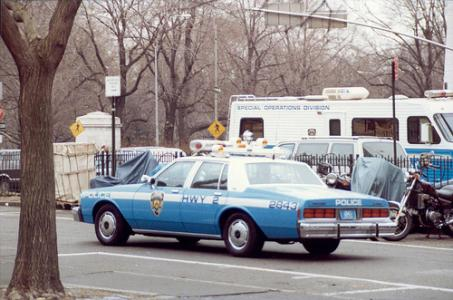car: (82, 156, 418, 258)
